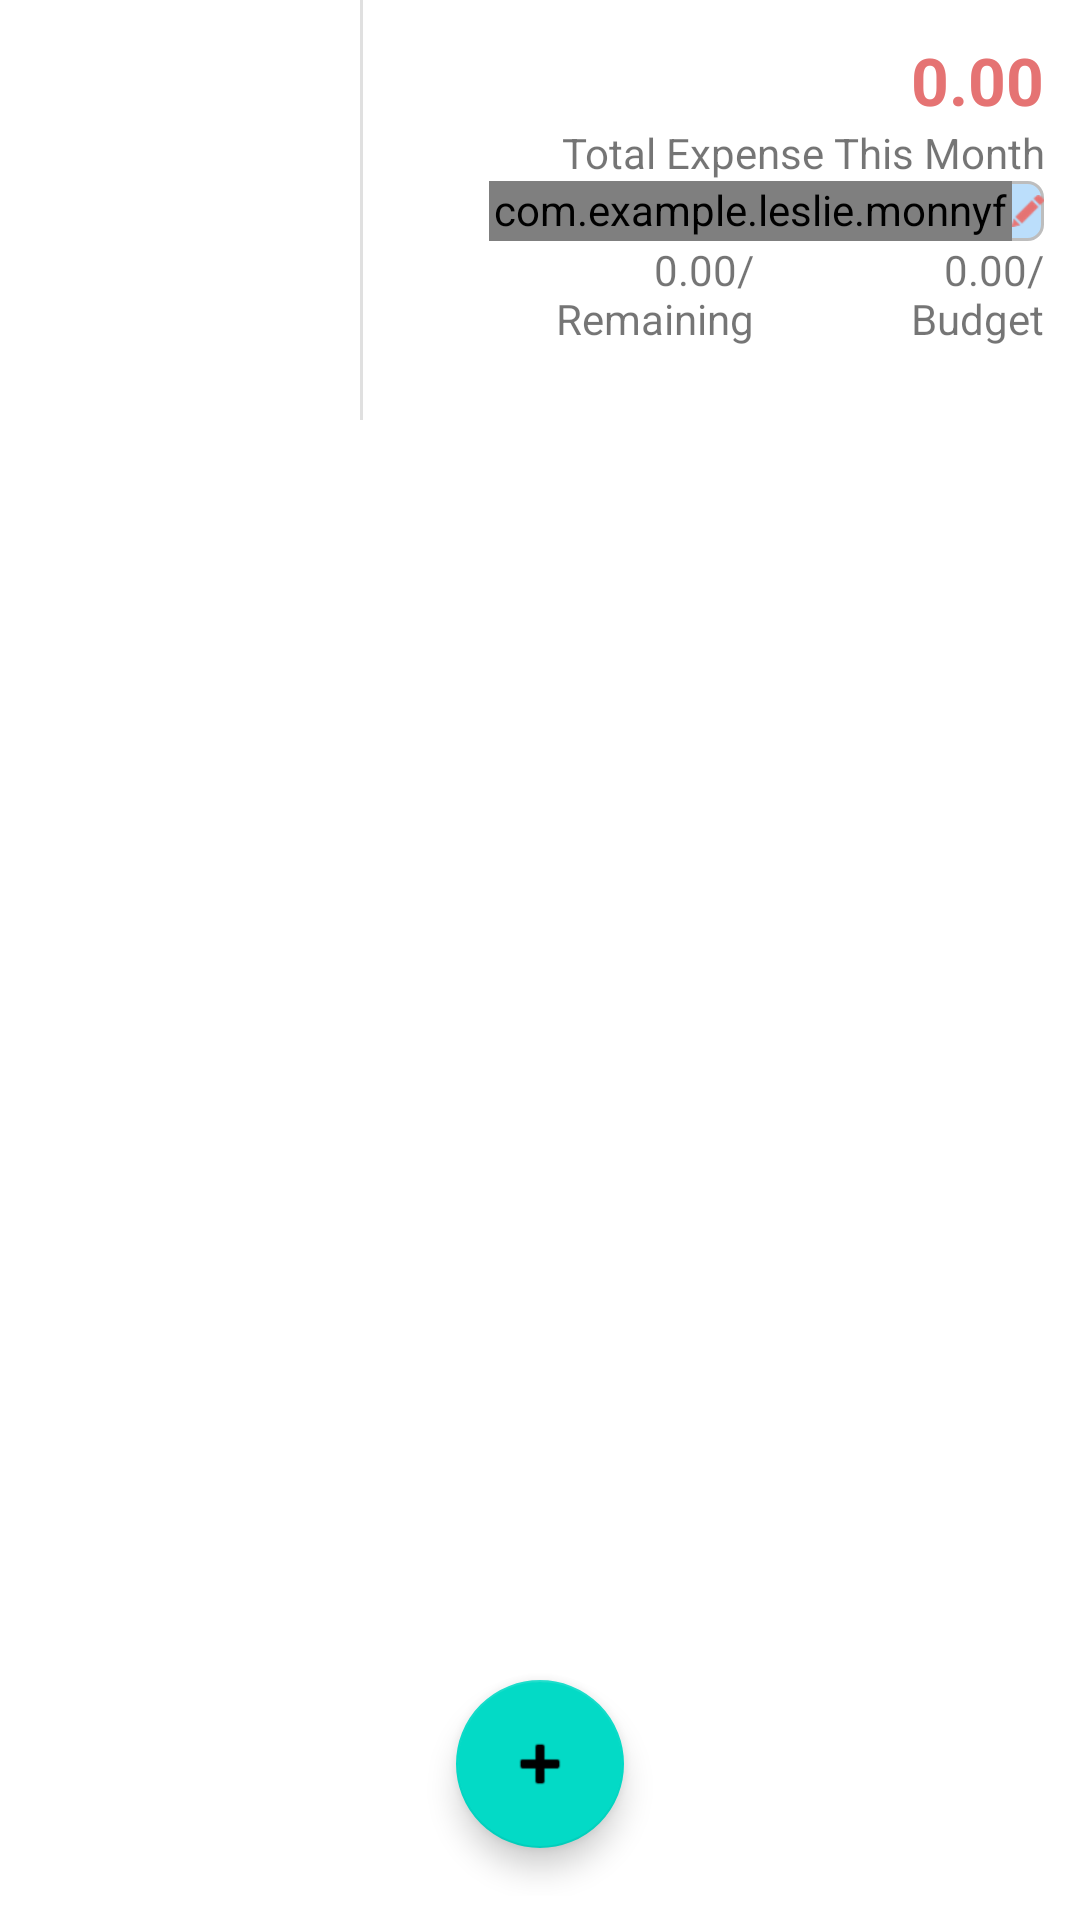

Icon click points for this 1080 x 1920 phone screenshot, format (x,y):
add: (540,1764)
edit: (1028,211)
